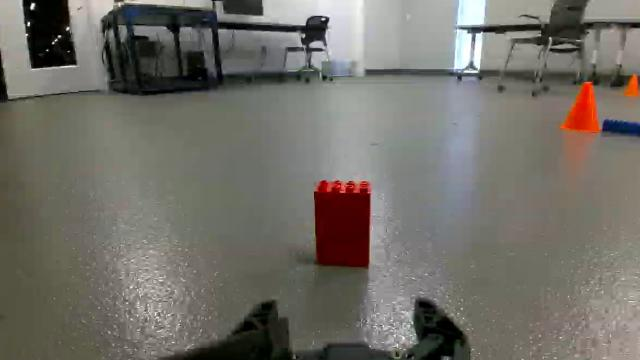lego: (299, 166, 393, 276)
